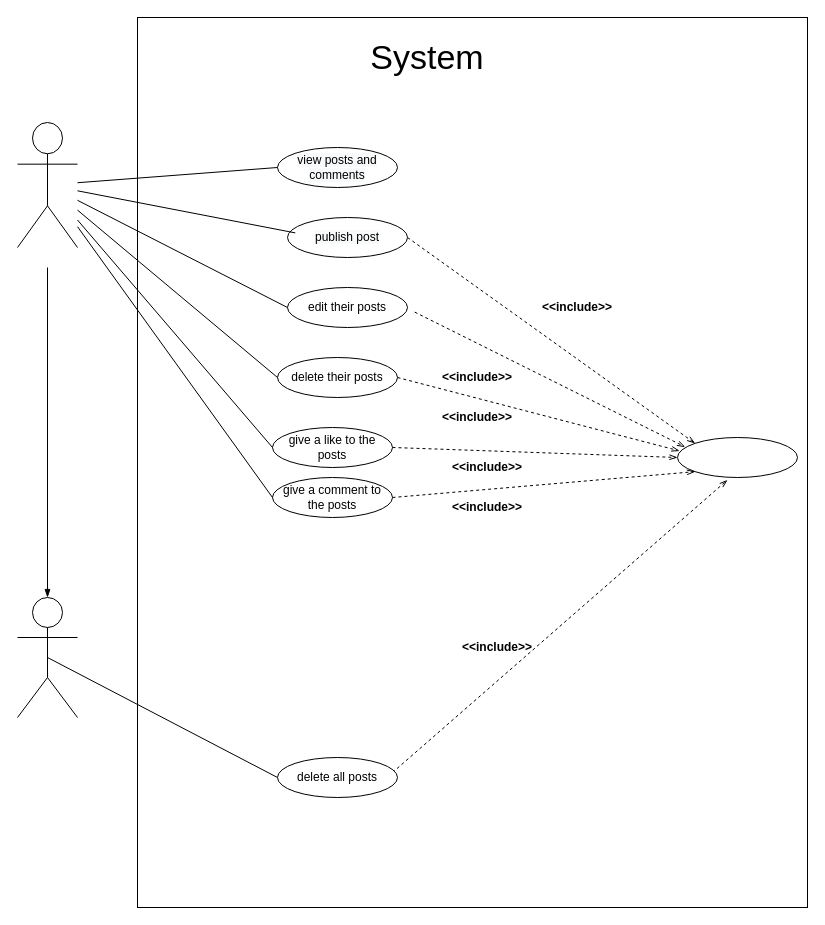
This 825x925 diagram has some shape labels left out. Each missing label, with the centre of its shape:
"Admin" goes at point 47,657.
"authenticate" goes at point 737,457.
"User" goes at point 47,185.
